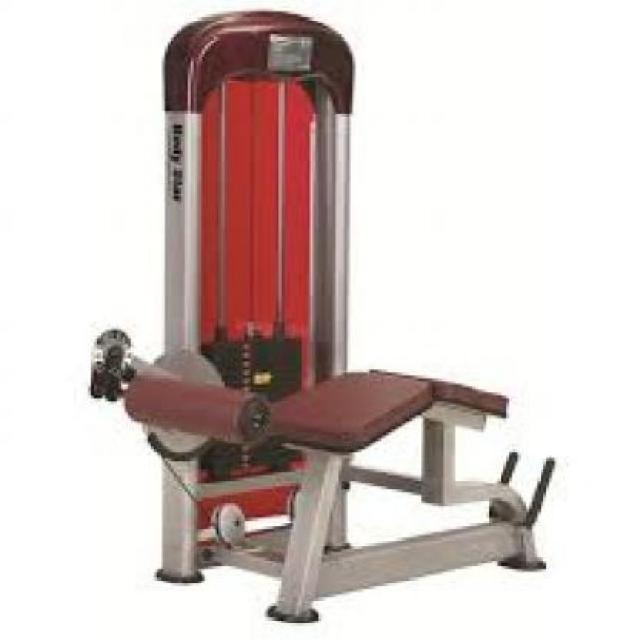reg curl machine: (88, 8, 560, 623)
